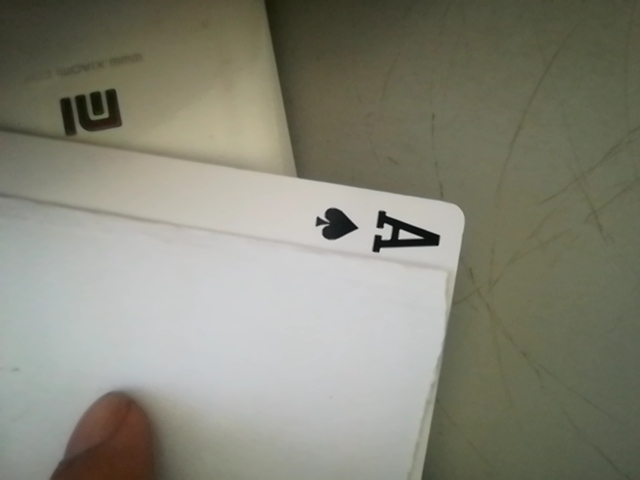ht a: (296, 198, 453, 262)
